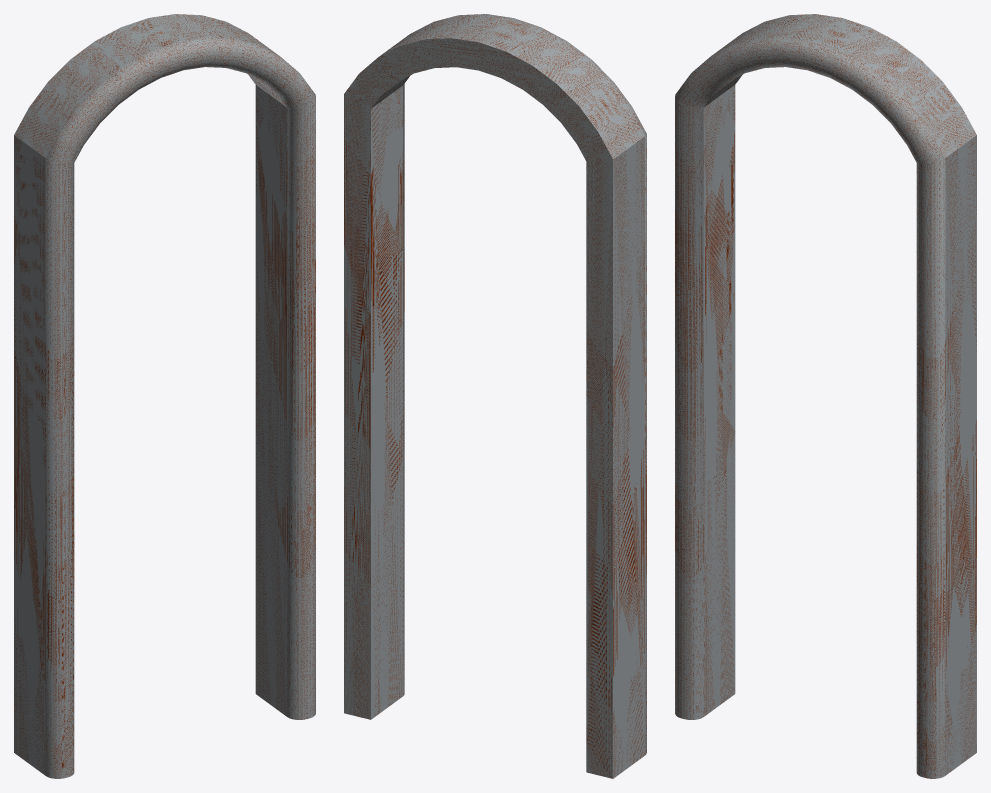
The model's file is frame.dae.
3 views of the same model, side by side, from view 1: azimuth 30°, elevation 25°; view 2: azimuth 150°, elevation 25°; view 3: azimuth 330°, elevation 25° (orthographic).
Parts seen in each view (by area): view 1: group_3.057; view 2: group_3.057; view 3: group_3.057.
Part boxes in pixels (<box>): group_3.057: <box>14,14,315,778</box>; group_3.057: <box>344,14,646,778</box>; group_3.057: <box>675,14,976,778</box>.
Size of the model in its own units: 1 by 0.25 by 2.5.
2 materials, 1 textured.
